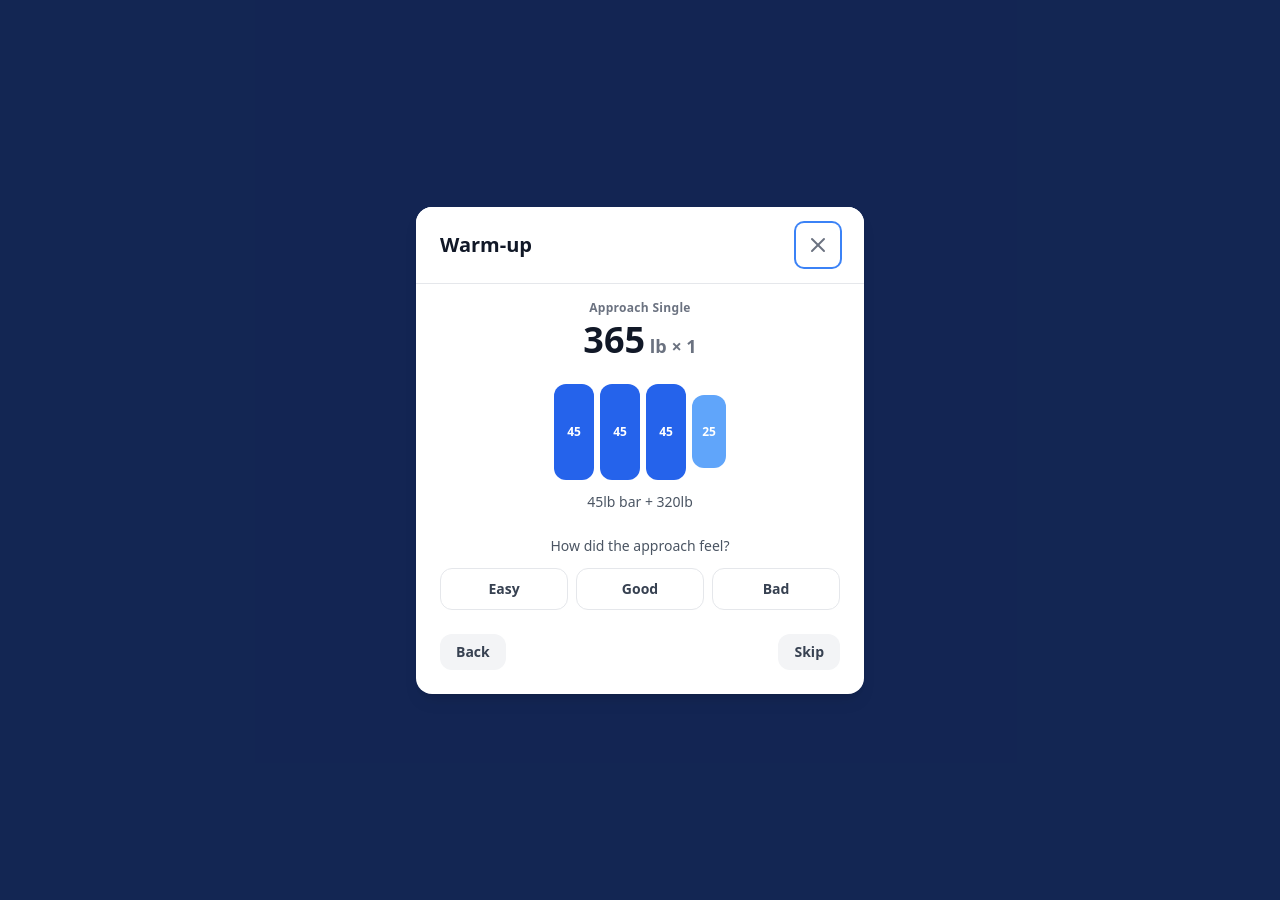
Test: WarmupFlow › rates the approach single and lands on the final card
The width and height of the screenshot is (1280, 900).
Expected: the text "Approach Single" is shown, [589,298,691,316]
Click the button "Easy".
click(504, 588)  # box [440,568,568,610]
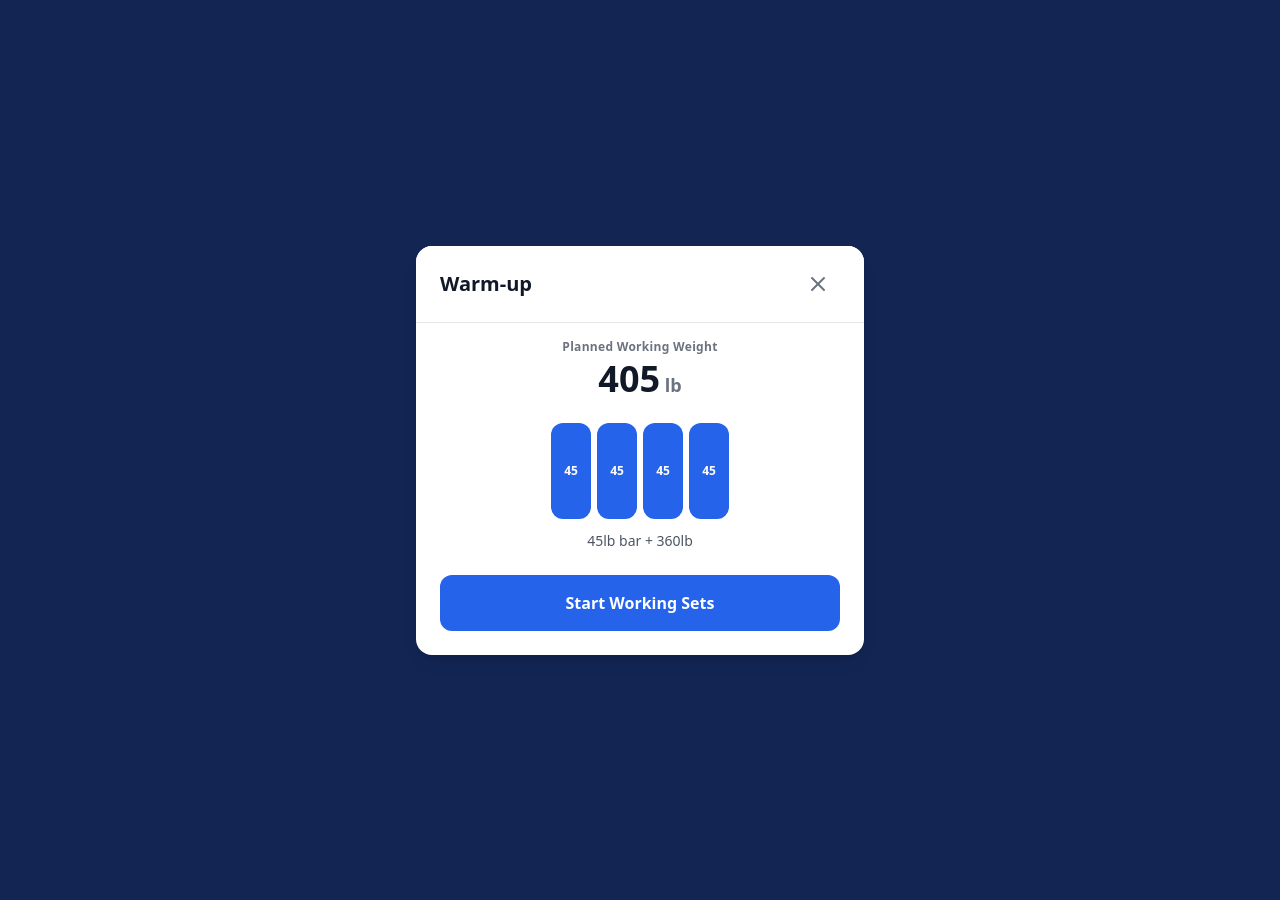
Now the button "Start Working Sets" is shown, box [440,574,840,630]
